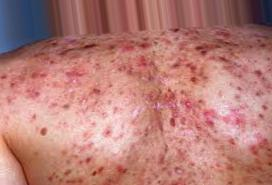Acne: (130, 86, 268, 185), (20, 61, 114, 176), (158, 29, 271, 112), (75, 34, 154, 95)
